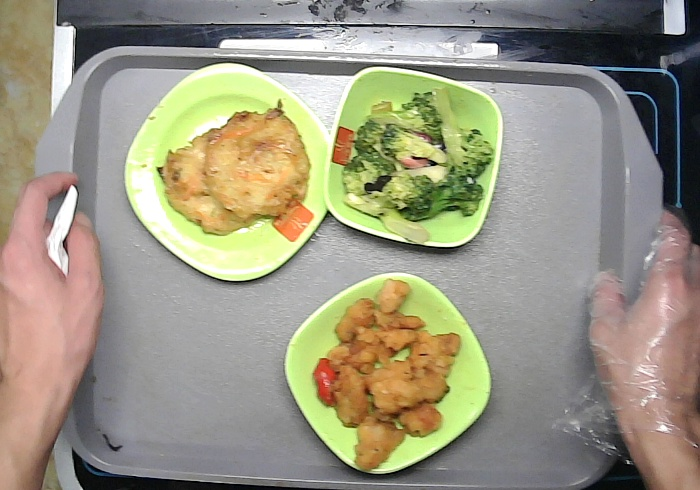SHKJ-Lv_Se_Cai_Die: (283, 269, 495, 476)
SHKJ-Lv_Se_Si_Fang_Cai_Die: (124, 57, 332, 285)
SHKJ-Lv_Se_Xiao_Fang_Die: (322, 66, 503, 255)
